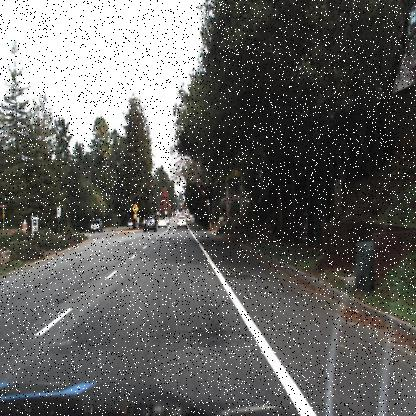car: (142, 210, 160, 238), (174, 210, 190, 232), (89, 216, 104, 238), (156, 213, 168, 231), (89, 217, 101, 233), (156, 212, 168, 228), (126, 216, 136, 232)
